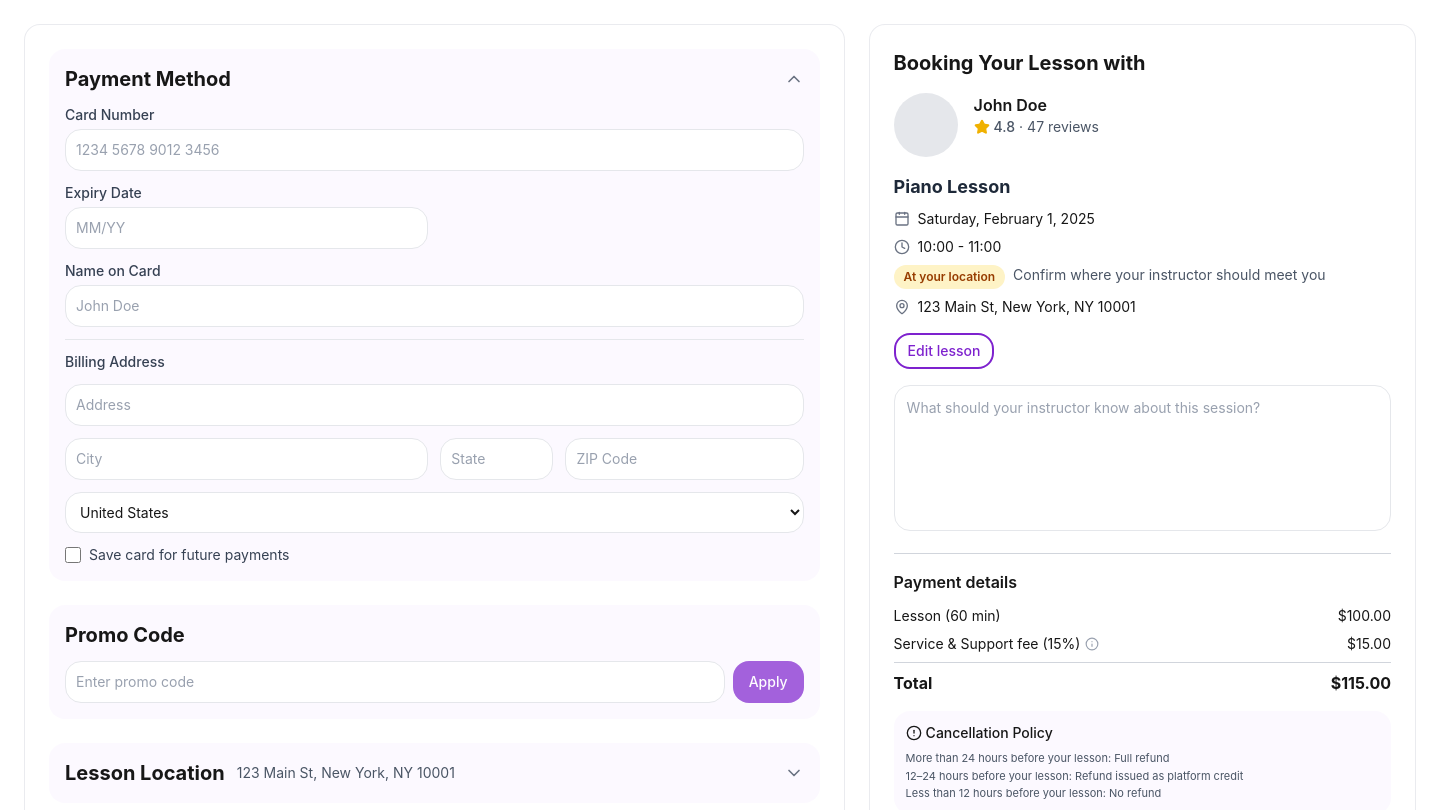
Test: PaymentConfirmation › handlePromoAction and promoInputChange interactions › activates promo and shows applied message
Type "VALID20" into the field with placeholder "Enter promo code" at (395, 682), box [65, 661, 725, 703]
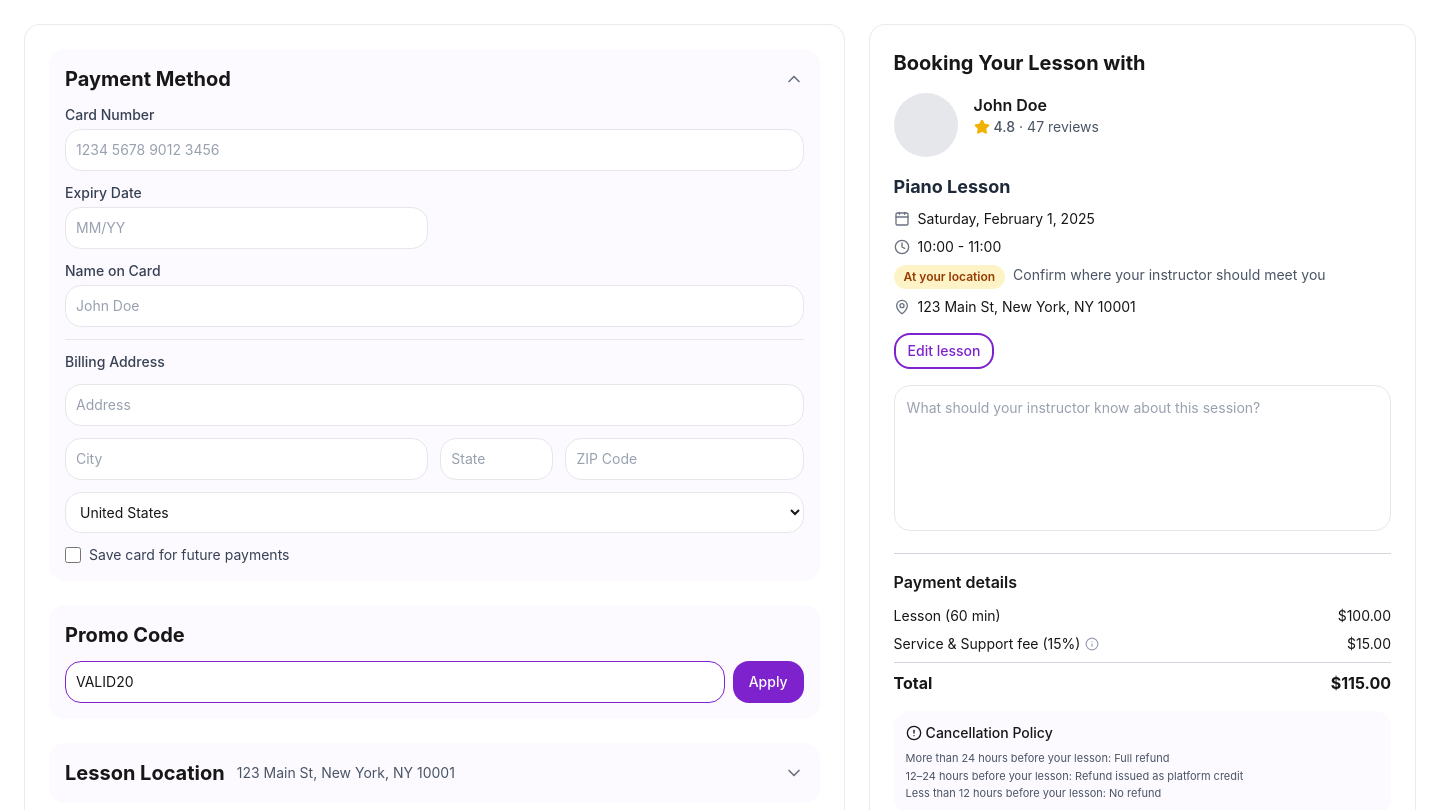
Click the button "Apply" at (768, 682), box [733, 661, 804, 703]
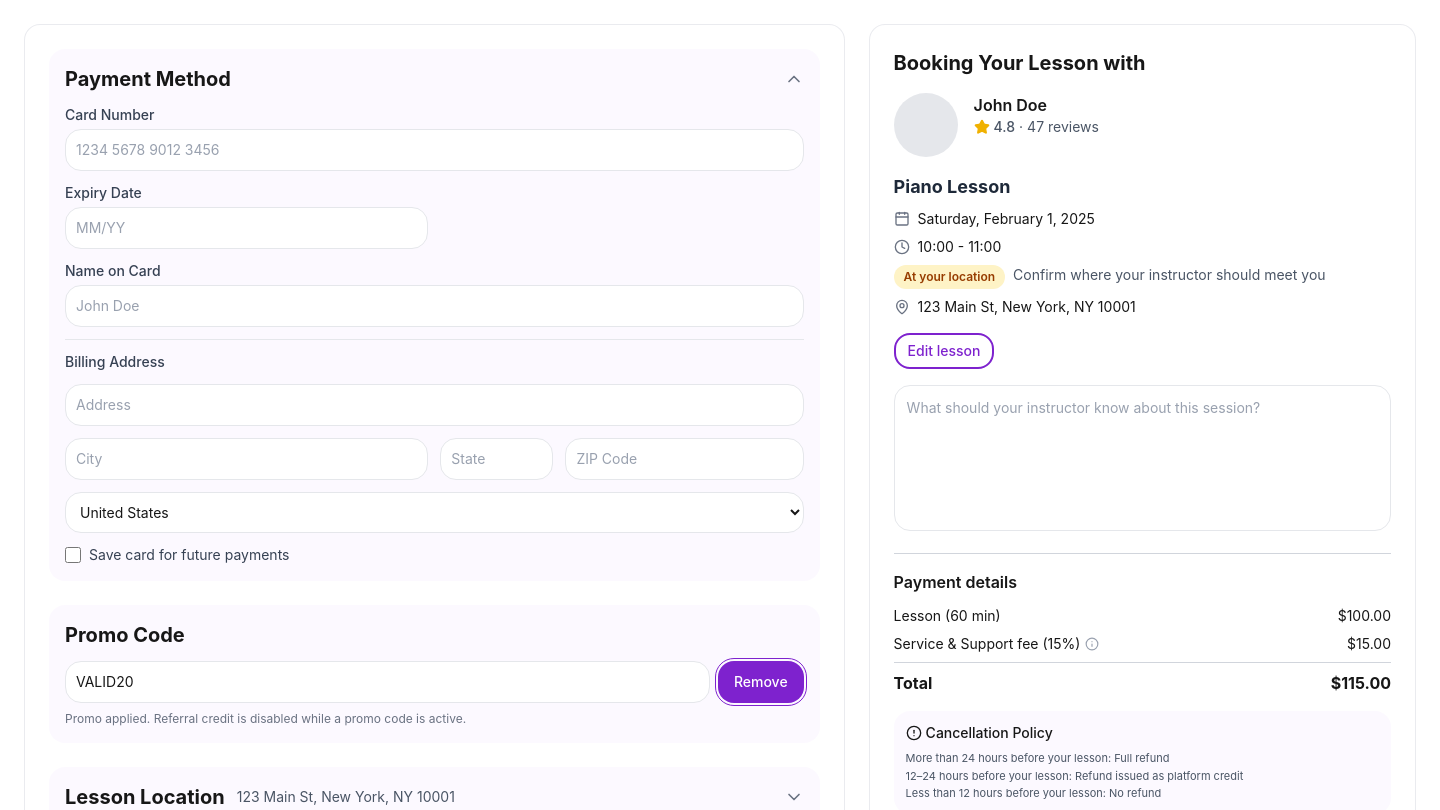
Expected: the button "Remove" is shown, [718, 661, 804, 703]
Expected: the text "Promo applied" is shown, [65, 711, 466, 726]
